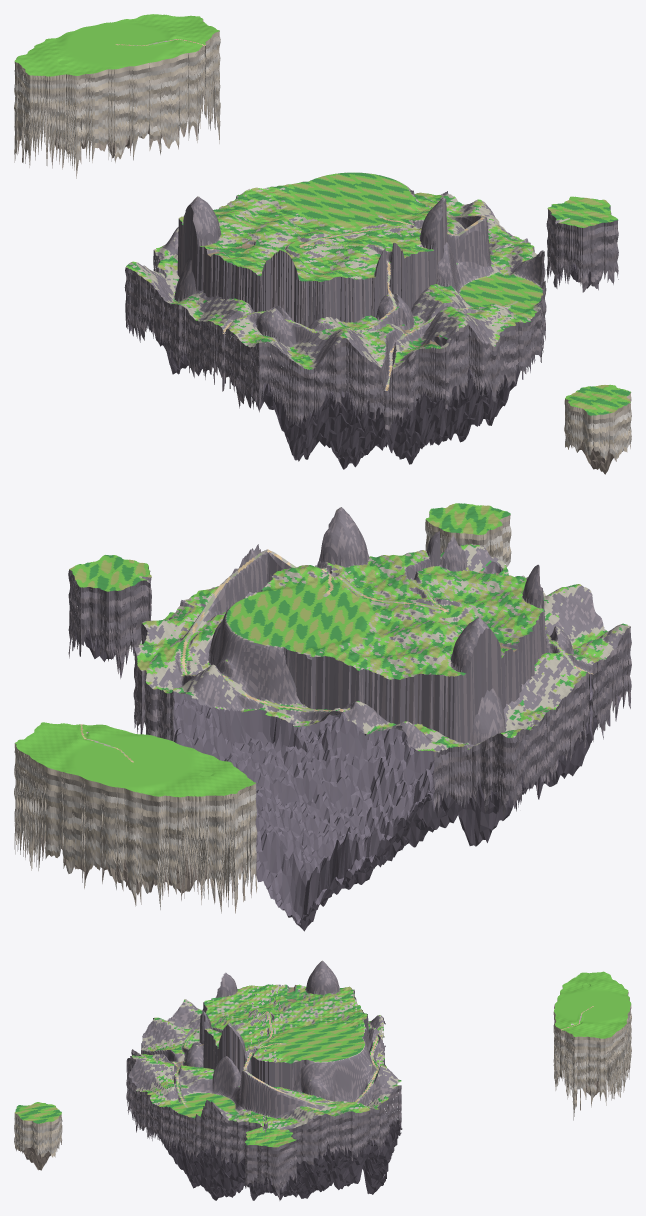
File: Floor1_Jungle_Fortress.fbx
3 renders of one model, top to bottom at view 1: azimuth 30°, elevation 25°; view 2: azimuth 150°, elevation 25°; view 3: azimuth 270°, elevation 25°, orthographic. The views are drawn at different scales.
Visible parts, largest first — view 1: Sky_Temple_Cliffs__F1_Rock_Strata_2, Jungle_Fortress_Cliffs__F1_Rock_Dark_10, Sky_Temple_Cliffs__F1_Rock_2, Jungle_Fortress_Underside__F1_Rock_Under_Dark_7, Sky_Temple_Cliffs__F1_Rock_Light_2, Jungle_Fortress_Cliffs__F1_Rock_Dark_2, Fortress_Heights_Top__F1_Rock_Dark_2, Fortress_Heights_Top__F1_Rock_Dark_4, Secret_Overlook_Cliffs__F1_Rock_Dark, Jungle_Fortress_Cliffs__F1_Rock_Dark_Strata_8, Jungle_Fortress_Cliffs__F1_Rock_Dark_4, Jungle_Fortress_Cliffs__F1_Rock_Dark_Strata_2 (+62 smaller); view 2: Fortress_Heights_Underside__F1_Rock_Under_Dark_10, Sky_Temple_Cliffs__F1_Rock_Strata_2, Sky_Temple_Cliffs__F1_Rock_2, Fortress_Heights_Underside__F1_Rock_Under_Dark_13, Sky_Temple_Cliffs__F1_Rock_Light_2, Fortress_Heights_Top__F1_Rock_Dark_6, Fortress_Heights_Top__F1_Rock_Dark_3, Secret_Overlook_Cliffs__F1_Rock_Dark, Jungle_Fortress_Cliffs__F1_Rock_Dark_6, Jungle_Fortress_Underside__F1_Rock_Under_Dark_17, Jungle_Fortress_Underside__F1_Rock_Under_Dark_5, Fortress_Heights_Top__F1_Rock_Dark_2 (+79 smaller); view 3: Jungle_Fortress_Top__F1_Rock_Dark_17, Sky_Temple_Cliffs__F1_Rock_Strata_3, Sky_Temple_Cliffs__F1_Rock_3, Jungle_Fortress_Top__F1_Rock_Dark_Strata_7, Jungle_Fortress_Cliffs__F1_Rock_Dark_18, Sky_Temple_Cliffs__F1_Rock_Light_3, Jungle_Fortress_Underside__F1_Rock_Under_Dark_12, Fortress_Heights_Top__F1_Rock_Dark_8, Jungle_Fortress_Underside__F1_Rock_Under_Dark_19, Secret_Overlook_Cliffs__F1_Rock_Dark, Jungle_Fortress_Top__F1_Rock_Dark_7, Jungle_Fortress_Top__F1_Rock_Dark_18 (+61 smaller).
Part boxes in pixels (left/top/right/bottom): Sky_Temple_Cliffs__F1_Rock_Strata_2: left=34, top=47, right=200, bottom=170; Jungle_Fortress_Cliffs__F1_Rock_Dark_10: left=354, top=326, right=491, bottom=411; Sky_Temple_Cliffs__F1_Rock_2: left=65, top=53, right=200, bottom=171; Jungle_Fortress_Underside__F1_Rock_Under_Dark_7: left=325, top=393, right=448, bottom=469; Sky_Temple_Cliffs__F1_Rock_Light_2: left=65, top=58, right=200, bottom=170; Jungle_Fortress_Cliffs__F1_Rock_Dark_2: left=233, top=334, right=350, bottom=411; Fortress_Heights_Top__F1_Rock_Dark_2: left=186, top=197, right=287, bottom=313; Fortress_Heights_Top__F1_Rock_Dark_4: left=312, top=236, right=436, bottom=322; Secret_Overlook_Cliffs__F1_Rock_Dark: left=546, top=206, right=618, bottom=292; Jungle_Fortress_Cliffs__F1_Rock_Dark_Strata_8: left=354, top=323, right=491, bottom=408; Jungle_Fortress_Cliffs__F1_Rock_Dark_4: left=150, top=288, right=234, bottom=387; Jungle_Fortress_Cliffs__F1_Rock_Dark_Strata_2: left=234, top=334, right=355, bottom=408; Fortress_Heights_Underside__F1_Rock_Under_Dark_10: left=277, top=729, right=441, bottom=884; Sky_Temple_Cliffs__F1_Rock_Strata_2: left=36, top=762, right=231, bottom=909; Sky_Temple_Cliffs__F1_Rock_2: left=37, top=767, right=231, bottom=899; Fortress_Heights_Underside__F1_Rock_Under_Dark_13: left=243, top=712, right=360, bottom=817; Sky_Temple_Cliffs__F1_Rock_Light_2: left=36, top=771, right=233, bottom=905; Fortress_Heights_Top__F1_Rock_Dark_6: left=282, top=644, right=414, bottom=724; Fortress_Heights_Top__F1_Rock_Dark_3: left=406, top=634, right=480, bottom=743; Secret_Overlook_Cliffs__F1_Rock_Dark: left=68, top=567, right=151, bottom=672; Jungle_Fortress_Cliffs__F1_Rock_Dark_6: left=433, top=729, right=523, bottom=811; Jungle_Fortress_Underside__F1_Rock_Under_Dark_17: left=166, top=692, right=268, bottom=772; Jungle_Fortress_Underside__F1_Rock_Under_Dark_5: left=385, top=785, right=520, bottom=847; Fortress_Heights_Top__F1_Rock_Dark_2: left=450, top=564, right=544, bottom=709; Jungle_Fortress_Top__F1_Rock_Dark_17: left=221, top=1062, right=329, bottom=1129; Sky_Temple_Cliffs__F1_Rock_Strata_3: left=558, top=1027, right=624, bottom=1116; Sky_Temple_Cliffs__F1_Rock_3: left=558, top=1030, right=624, bottom=1120; Jungle_Fortress_Top__F1_Rock_Dark_Strata_7: left=221, top=1056, right=329, bottom=1125; Jungle_Fortress_Cliffs__F1_Rock_Dark_18: left=221, top=1113, right=329, bottom=1160; Sky_Temple_Cliffs__F1_Rock_Light_3: left=558, top=1033, right=624, bottom=1113; Jungle_Fortress_Underside__F1_Rock_Under_Dark_12: left=137, top=1120, right=223, bottom=1200; Fortress_Heights_Top__F1_Rock_Dark_8: left=221, top=1024, right=313, bottom=1090; Jungle_Fortress_Underside__F1_Rock_Under_Dark_19: left=328, top=1123, right=402, bottom=1189; Secret_Overlook_Cliffs__F1_Rock_Dark: left=244, top=1133, right=297, bottom=1196; Jungle_Fortress_Top__F1_Rock_Dark_7: left=128, top=1021, right=207, bottom=1088; Jungle_Fortress_Top__F1_Rock_Dark_18: left=329, top=1050, right=381, bottom=1112.
Size of the model in its own units: 570348 by 342432 by 979507.
